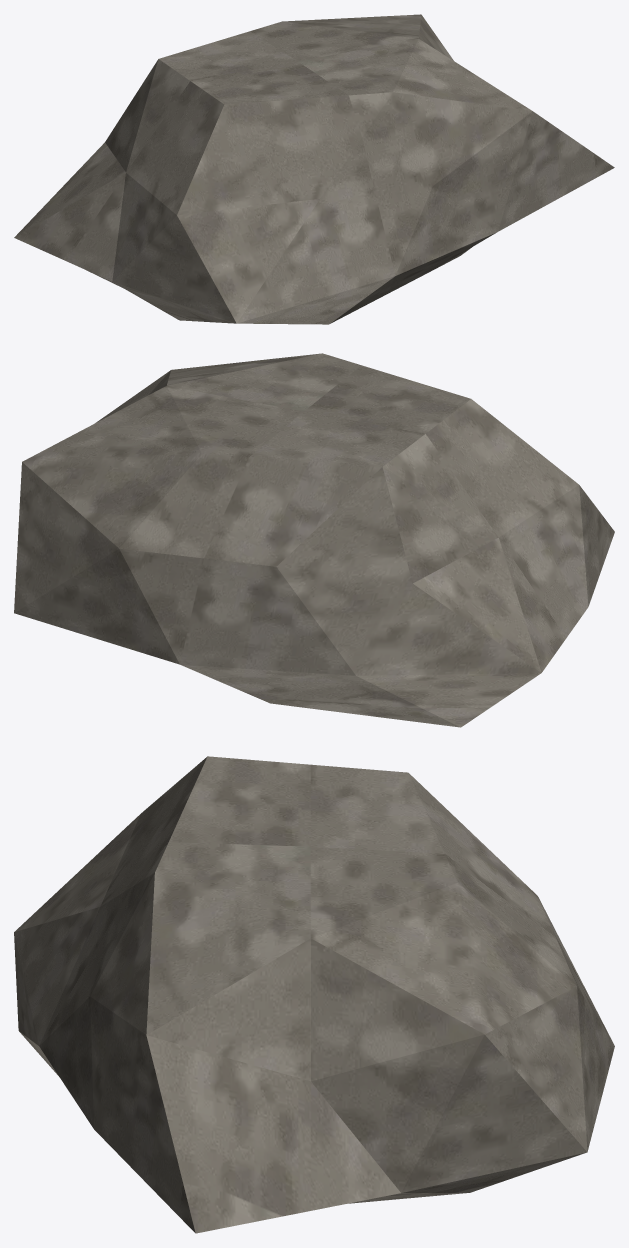
The model's file is rock_a.glb.
The picture shows the model from 3 angles, top to bottom: view 1: azimuth 30°, elevation 25°; view 2: azimuth 150°, elevation 25°; view 3: azimuth 270°, elevation 25°; orthographic projection. The views are drawn at different scales.
Parts seen in each view (by area): view 1: Rock_A; view 2: Rock_A; view 3: Rock_A.
Boxes of the visible parts, box(x1,y1,x2,y2) form: Rock_A: box(14, 14, 614, 324); Rock_A: box(14, 353, 614, 727); Rock_A: box(14, 756, 614, 1233).
Size of the model in its own units: 3.13 by 1.19 by 2.24.
Materials: 1 (1 with a texture image).
